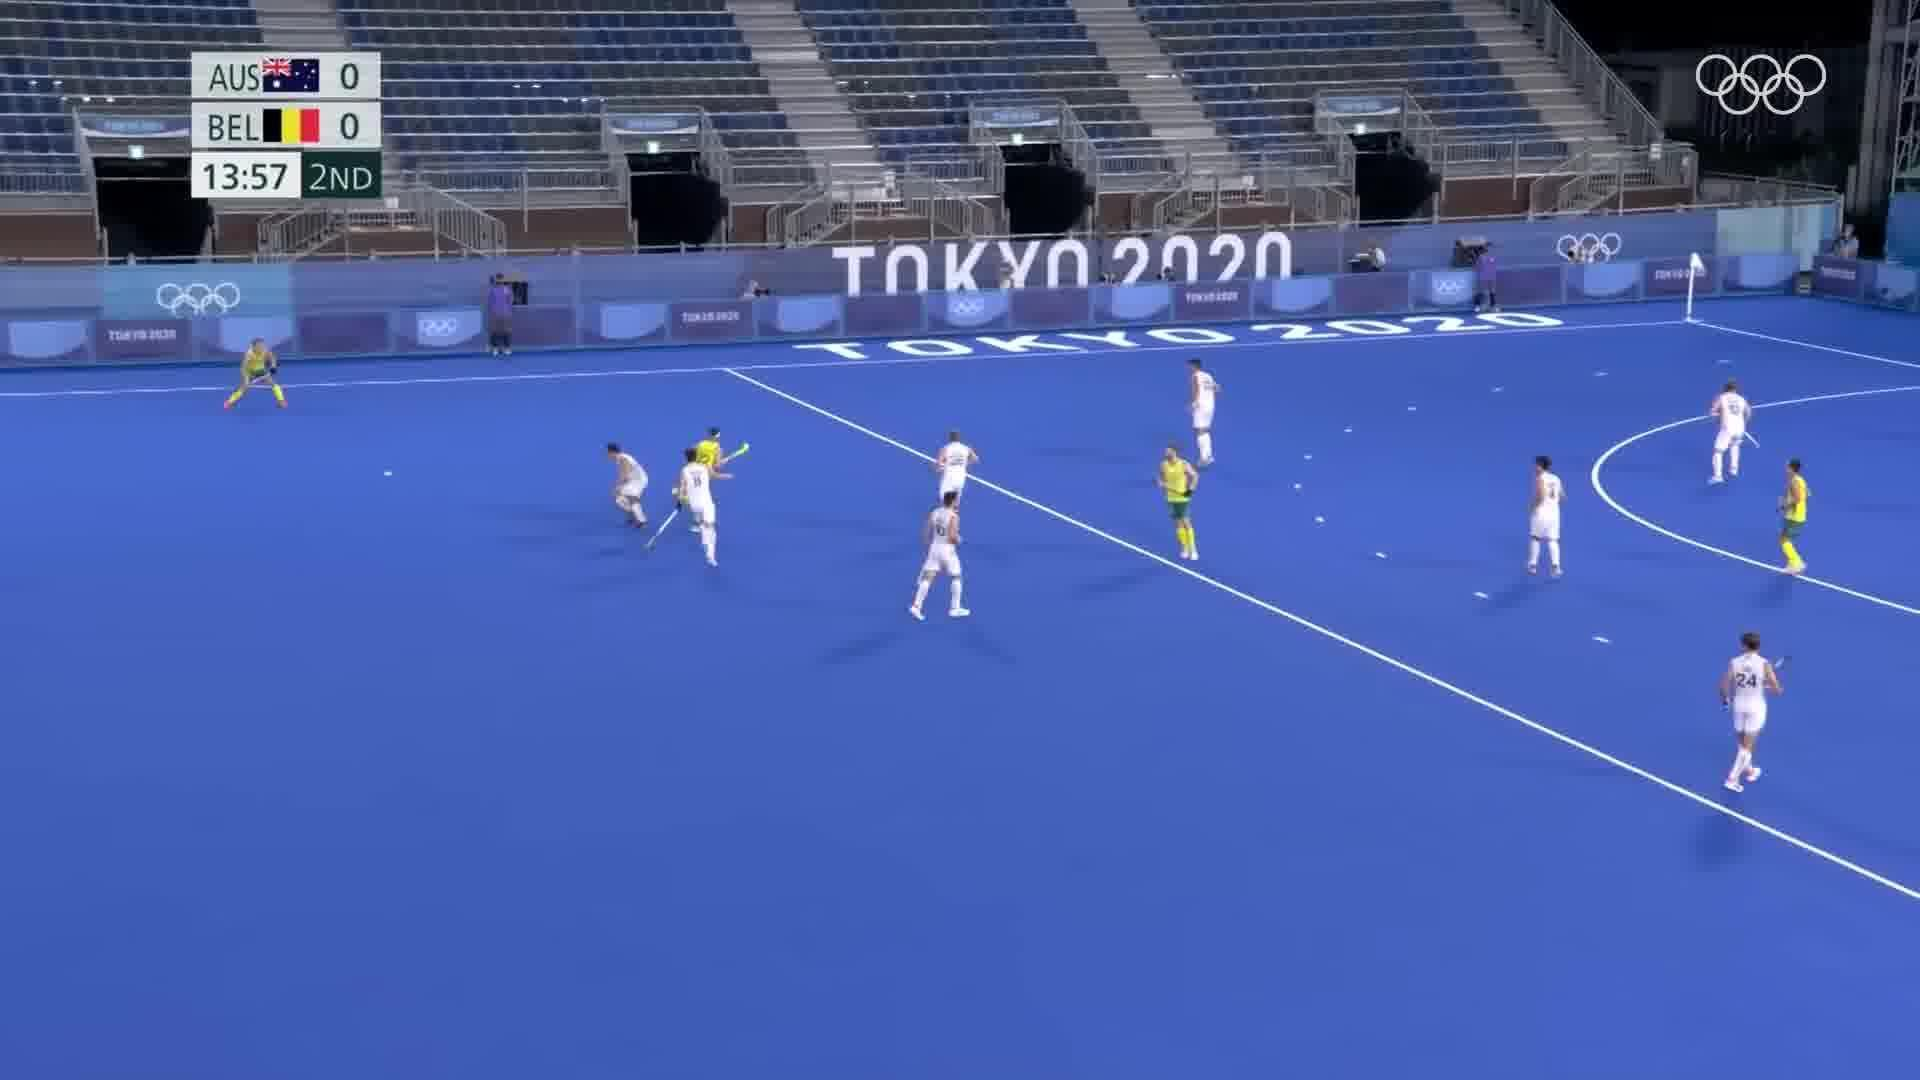ball: (377, 464, 400, 488)
